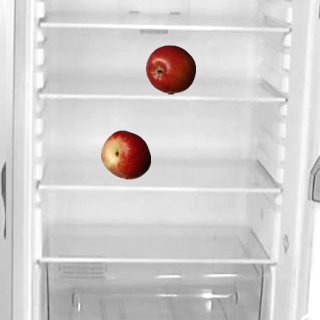Apple Braeburn: (145, 44, 195, 94)
Nectarine: (100, 129, 150, 179)
